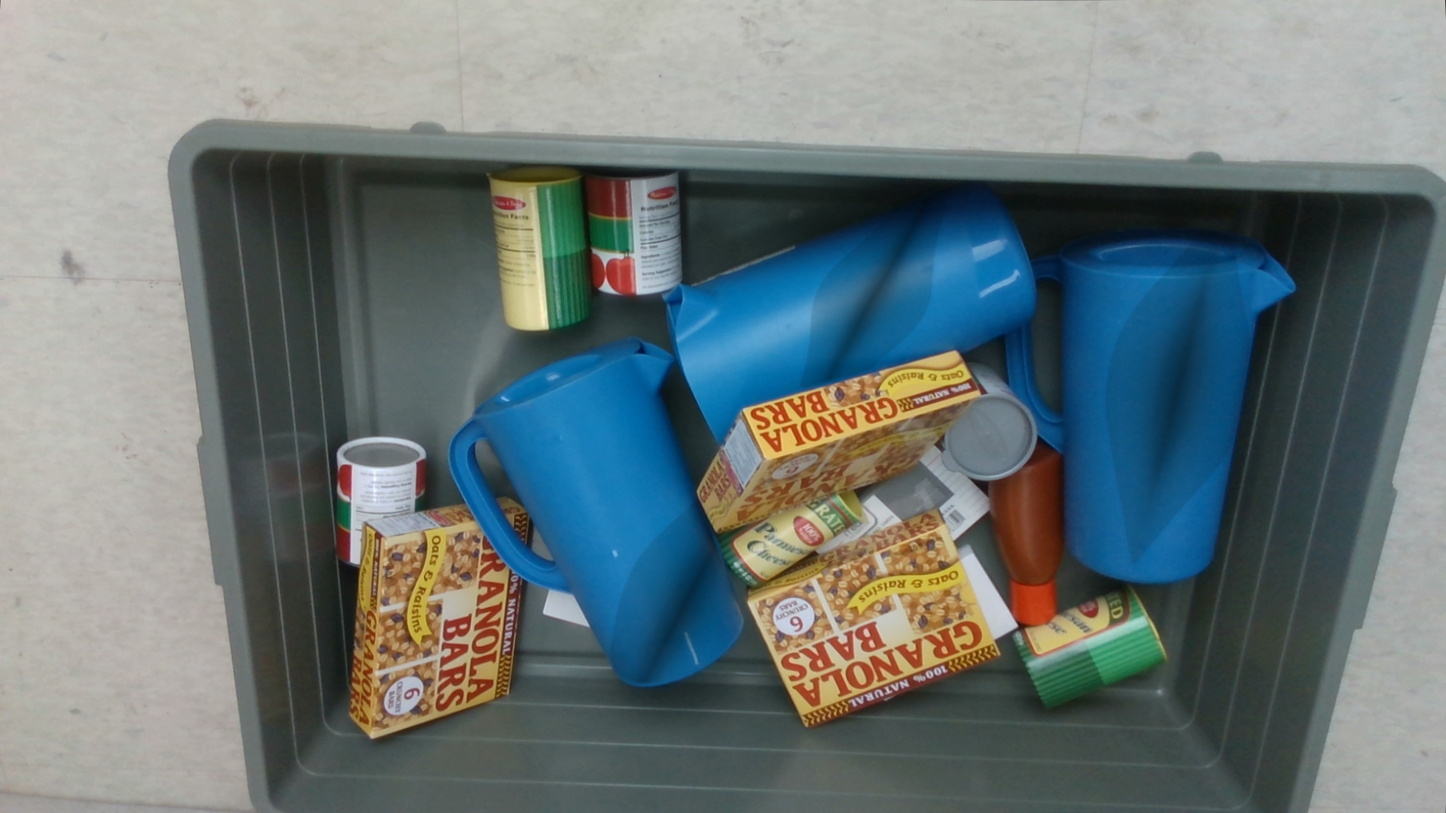defect: (1106, 230, 1250, 565), (799, 187, 953, 388), (609, 500, 742, 686)
